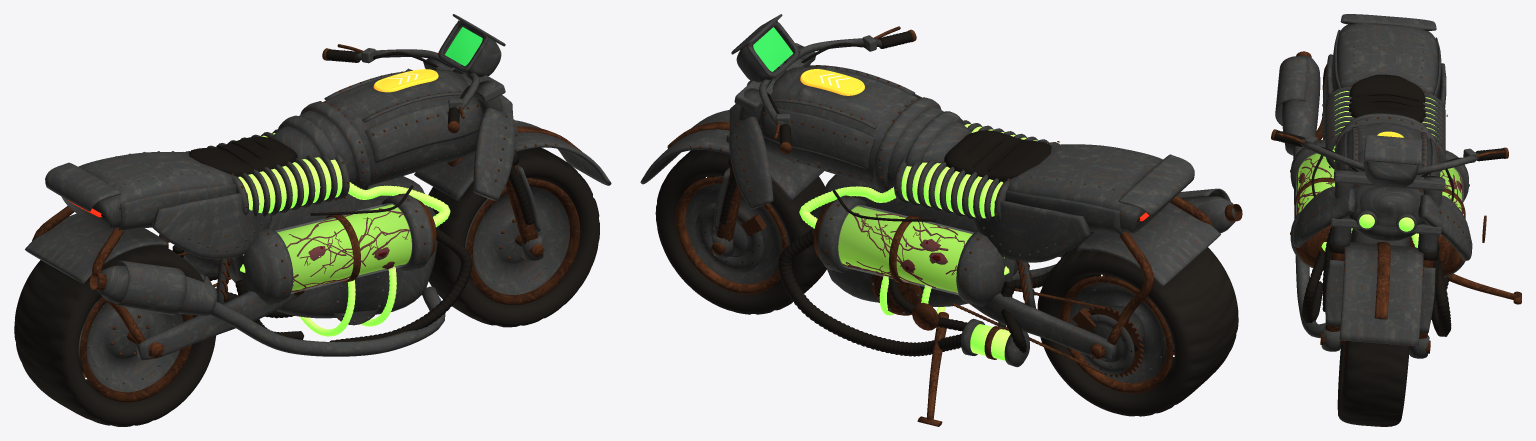
Rendered from bike4.glb.
3 views of the same model, side by side, from view 1: azimuth 30°, elevation 25°; view 2: azimuth 150°, elevation 25°; view 3: azimuth 270°, elevation 25° (orthographic). The views are drawn at different scales.
Parts seen in each view (by area): view 1: Bike4, Wheel4Rear, Wheel4Front, Bike4Button, Bike4Dash; view 2: Bike4, Wheel4Rear, Wheel4Front, Bike4Button, Bike4Dash; view 3: Bike4, Wheel4Front.
Part boxes in pixels (left/top/right/bottom): Bike4: left=25, top=14, right=611, bottom=360; Wheel4Rear: left=14, top=245, right=216, bottom=426; Wheel4Front: left=428, top=147, right=599, bottom=327; Bike4Button: left=373, top=69, right=438, bottom=92; Bike4Dash: left=445, top=27, right=482, bottom=65; Bike4: left=640, top=14, right=1242, bottom=426; Wheel4Rear: left=1037, top=231, right=1238, bottom=416; Wheel4Front: left=655, top=150, right=826, bottom=314; Bike4Button: left=800, top=69, right=864, bottom=95; Bike4Dash: left=753, top=27, right=793, bottom=71; Bike4: left=1271, top=14, right=1521, bottom=358; Wheel4Front: left=1320, top=332, right=1430, bottom=426.
Bounding box in the file's own units: 2.22 × 1.13 × 0.9453.
12 materials, 2 textured.
